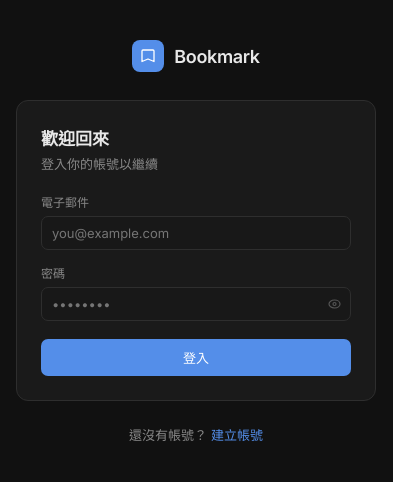
AuthPage — login › 登入失敗：顯示後端錯誤訊息
Type "a@b.com" into the field with placeholder "you@example.com" at (196, 233), box 41,216 -> 351,250
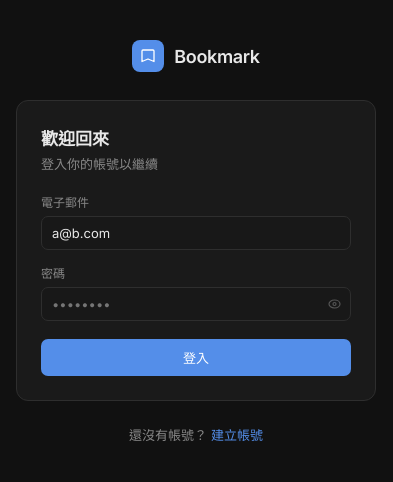
Type "12345678" into the password field with placeholder "••••••••" at (196, 304), box 41,287 -> 351,321
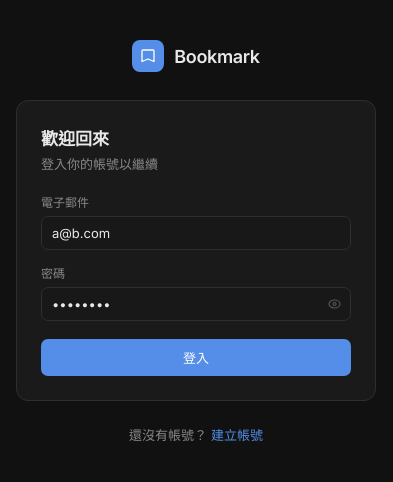
Click the button "登入" at (196, 358), box 41,339 -> 351,376
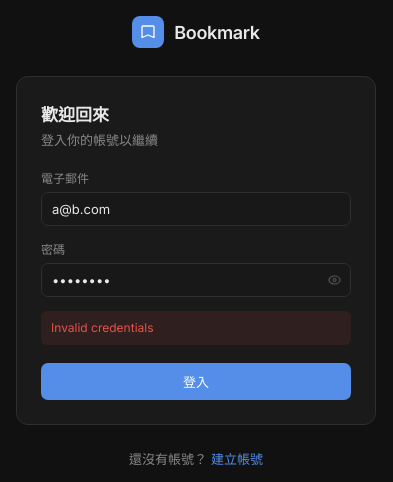
Now the text "Invalid credentials" is shown, box 41,311 -> 351,345
